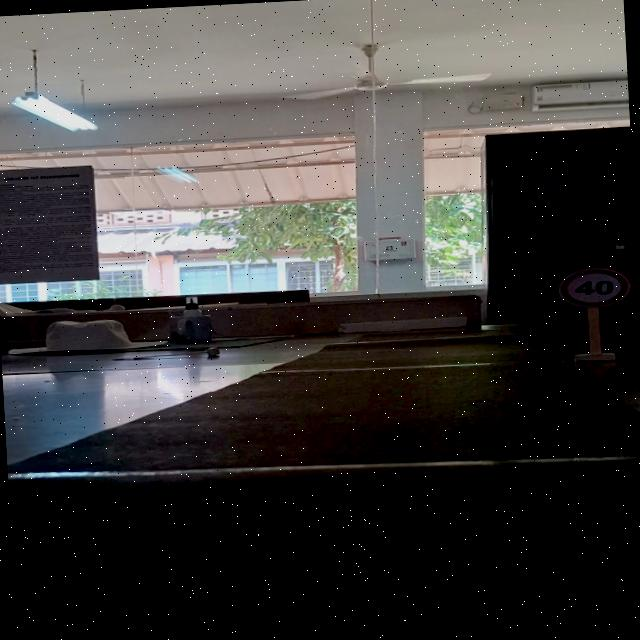Speed40: (556, 266, 634, 310)
